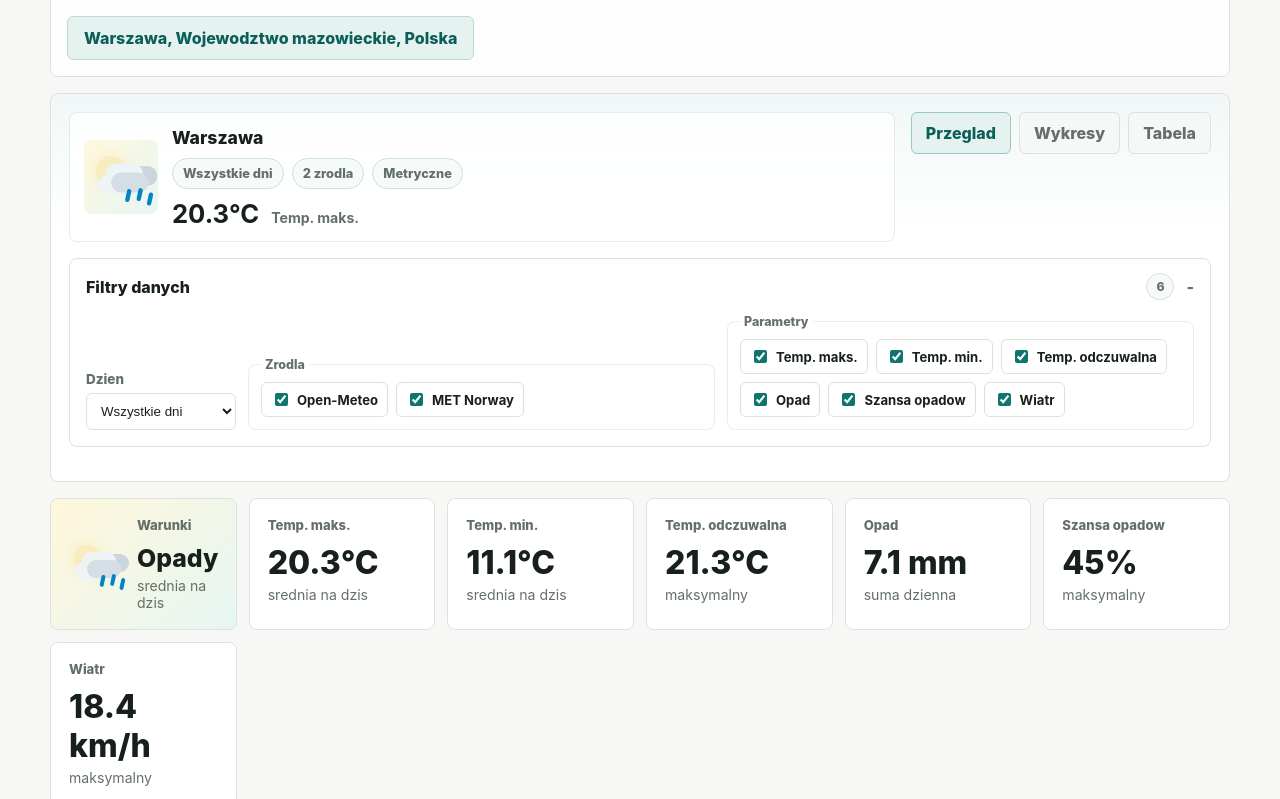
App › filters visible sources and keeps the choice in the URL
The width and height of the screenshot is (1280, 799).
(page scrolled)
Click the checkbox labelled "MET Norway" at (416, 400), box top-left (410, 393), bottom-right (423, 406)
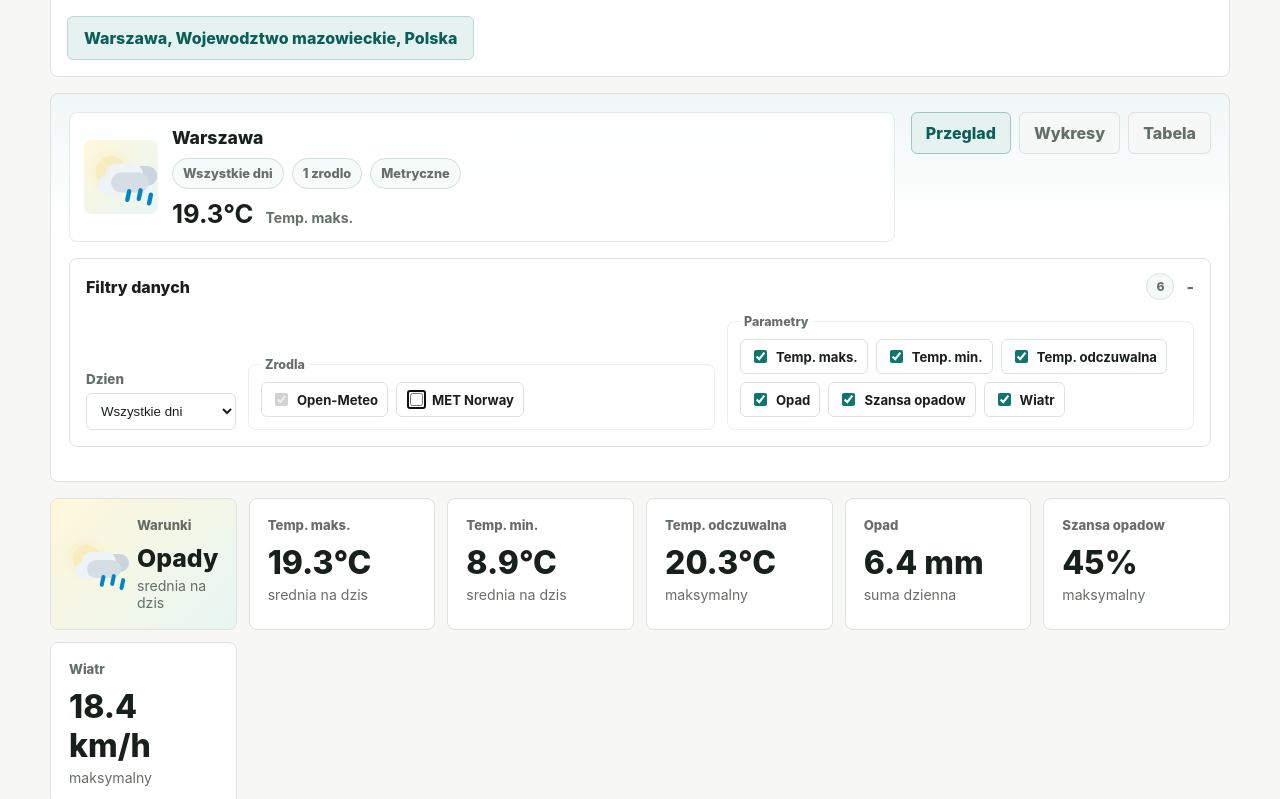
Expected: the checkbox labelled "Open-Meteo" is disabled, top-left (275, 393), bottom-right (288, 406)
Expected: the text "1 zrodlo" is shown, top-left (292, 158), bottom-right (362, 189)
